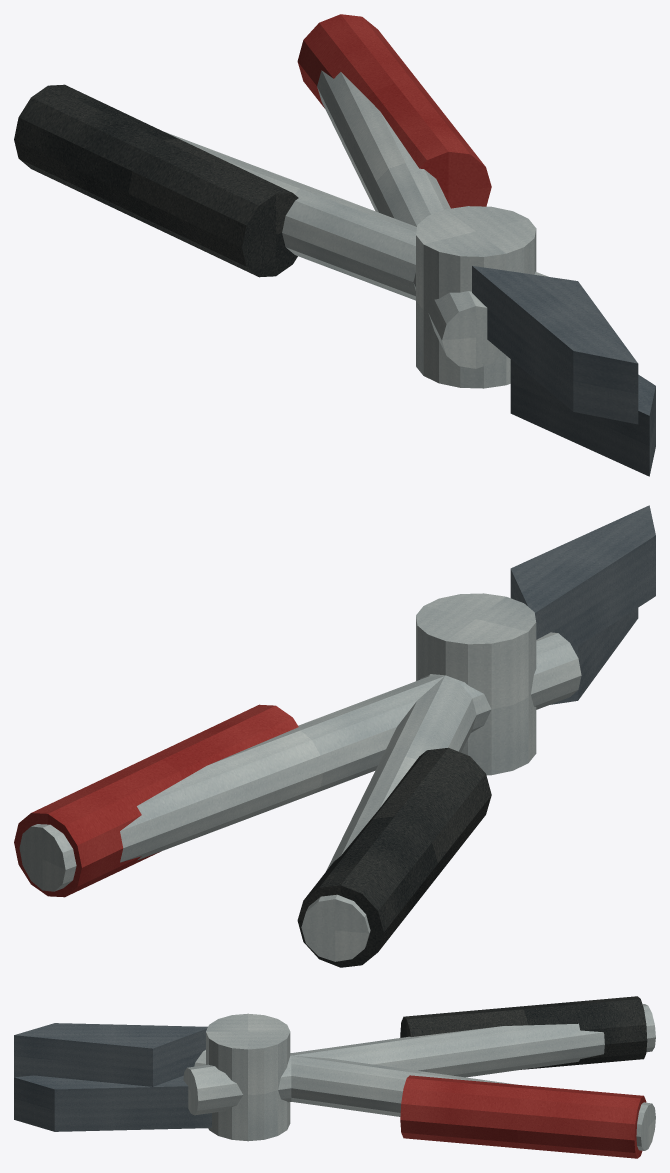
The model's file is PROJECT_Z_Pickup_Pliers.glb.
3 renders of one model, top to bottom at view 1: azimuth 30°, elevation 25°; view 2: azimuth 150°, elevation 25°; view 3: azimuth 270°, elevation 25°, orthographic. The views are drawn at different scales.
Visible parts, largest first — view 1: PLIERS_RubberHandle_0, PLIERS_Jaw_1, PLIERS_RubberHandle_1, PLIERS_SteelArm_1, PLIERS_CenterRivet, PLIERS_SteelArm_0, PLIERS_Jaw_0; view 2: PLIERS_SteelArm_1, PLIERS_RubberHandle_0, PLIERS_CenterRivet, PLIERS_RubberHandle_1, PLIERS_Jaw_1, PLIERS_SteelArm_0, PLIERS_Jaw_0; view 3: PLIERS_RubberHandle_1, PLIERS_SteelArm_0, PLIERS_Jaw_1, PLIERS_Jaw_0, PLIERS_CenterRivet, PLIERS_RubberHandle_0, PLIERS_SteelArm_1.
Part boxes in pixels (box(x1,y1,x2,y2)): PLIERS_RubberHandle_0: box(14, 84, 298, 277); PLIERS_Jaw_1: box(472, 265, 638, 424); PLIERS_RubberHandle_1: box(297, 14, 491, 208); PLIERS_SteelArm_1: box(317, 70, 502, 368); PLIERS_CenterRivet: box(416, 206, 536, 388); PLIERS_SteelArm_0: box(164, 131, 548, 300); PLIERS_Jaw_0: box(510, 359, 655, 476); PLIERS_SteelArm_1: box(19, 632, 581, 891); PLIERS_RubberHandle_0: box(297, 747, 491, 967); PLIERS_CenterRivet: box(416, 593, 536, 775); PLIERS_RubberHandle_1: box(14, 704, 298, 897); PLIERS_Jaw_1: box(510, 505, 655, 648); PLIERS_SteelArm_0: box(301, 674, 476, 961); PLIERS_Jaw_0: box(550, 608, 638, 704); PLIERS_RubberHandle_1: box(400, 1075, 646, 1158); PLIERS_SteelArm_0: box(183, 1004, 655, 1115); PLIERS_Jaw_1: box(14, 1023, 207, 1086); PLIERS_Jaw_0: box(14, 1075, 211, 1131); PLIERS_CenterRivet: box(206, 1013, 290, 1141); PLIERS_RubberHandle_0: box(400, 996, 647, 1069); PLIERS_SteelArm_1: box(194, 1050, 655, 1150).
Size of the model in its own units: 0.1971 by 0.067 by 0.425.
Materials: 4 (4 with a texture image).
